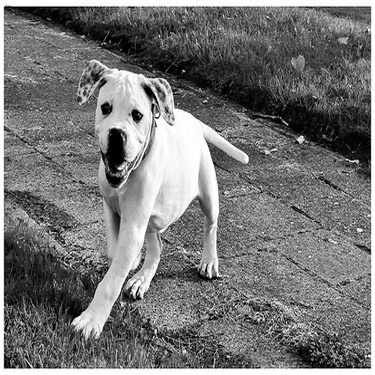dog: (65, 52, 255, 342)
